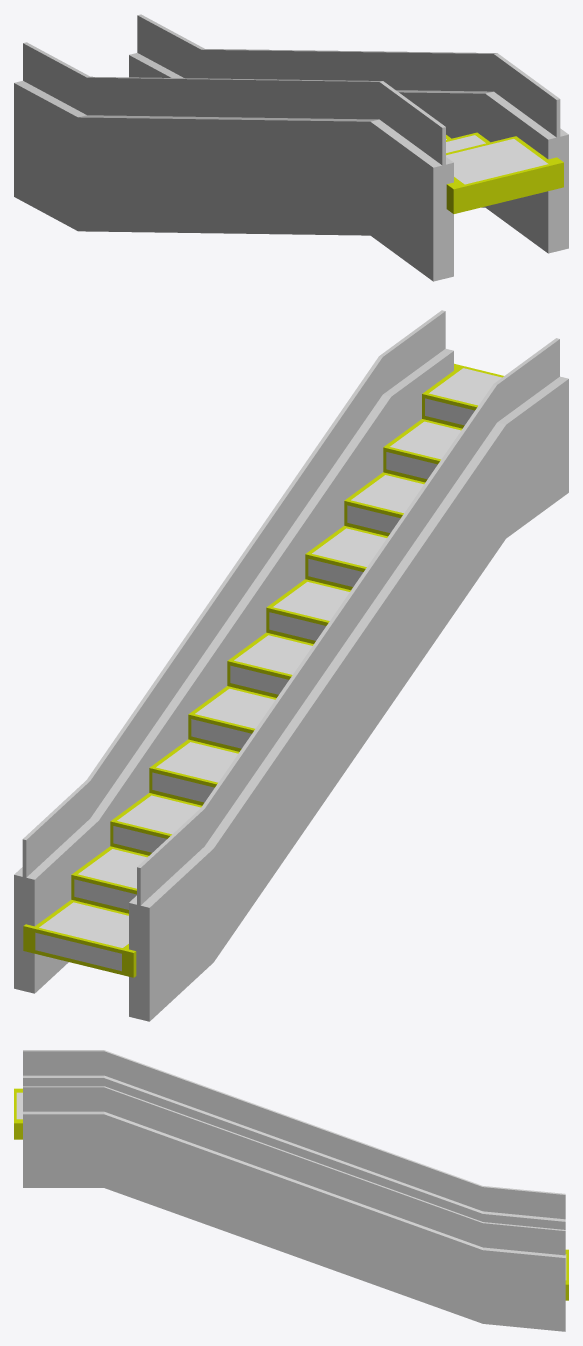
File: escal.fbx
3 views of the same model, one above another, from view 1: azimuth 30°, elevation 25°; view 2: azimuth 150°, elevation 25°; view 3: azimuth 270°, elevation 25° (orthographic). The views are drawn at different scales.
Parts seen in each view (by area): view 1: Cube.001, Cube.004, Cube.003, Cube, Cube.002; view 2: Cube.001, Cube.002, Cube, Cube.003, Cube.004; view 3: Cube, Cube.003, Cube.004, Cube.001, Cube.002.
Part boxes in pixels (bbox=[...]): Cube.001: bbox=[14, 81, 453, 281]; Cube.004: bbox=[23, 42, 445, 240]; Cube.003: bbox=[137, 14, 560, 213]; Cube: bbox=[129, 53, 568, 253]; Cube.002: bbox=[446, 132, 563, 213]; Cube.001: bbox=[129, 376, 568, 1021]; Cube.002: bbox=[23, 363, 503, 977]; Cube: bbox=[14, 348, 453, 993]; Cube.003: bbox=[22, 310, 445, 924]; Cube.004: bbox=[137, 338, 559, 971]; Cube: bbox=[23, 1111, 565, 1331]; Cube.003: bbox=[23, 1086, 565, 1255]; Cube.004: bbox=[23, 1050, 565, 1219]; Cube.001: bbox=[23, 1075, 565, 1229]; Cube.002: bbox=[14, 1088, 568, 1300].
Size of the model in its own units: 249 by 656 by 1364.
